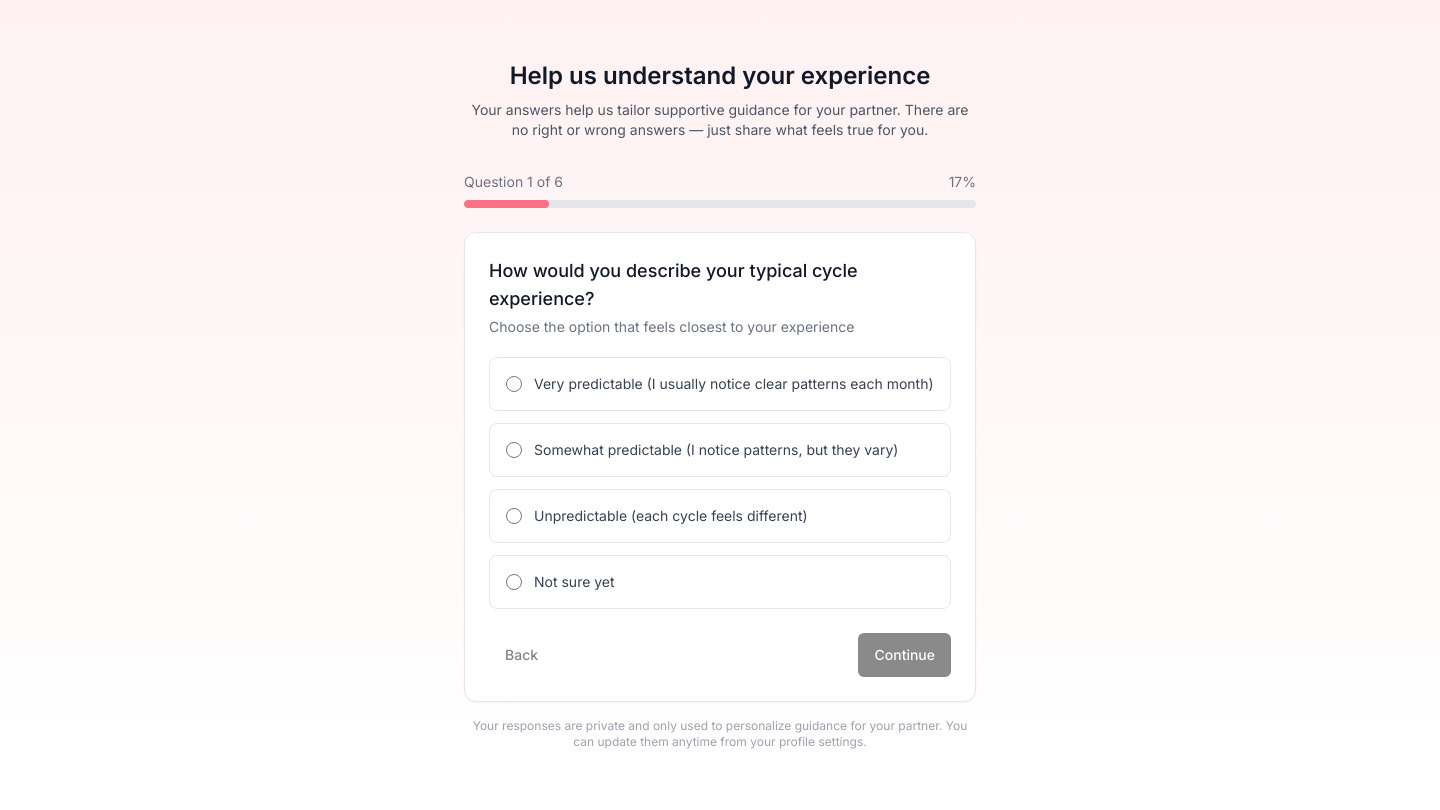
Scenario: OnboardingPage › navigates to Q2 when Continue is clicked
Click the radio button labelled "Not sure yet" at (514, 582), box [506,574,522,590]
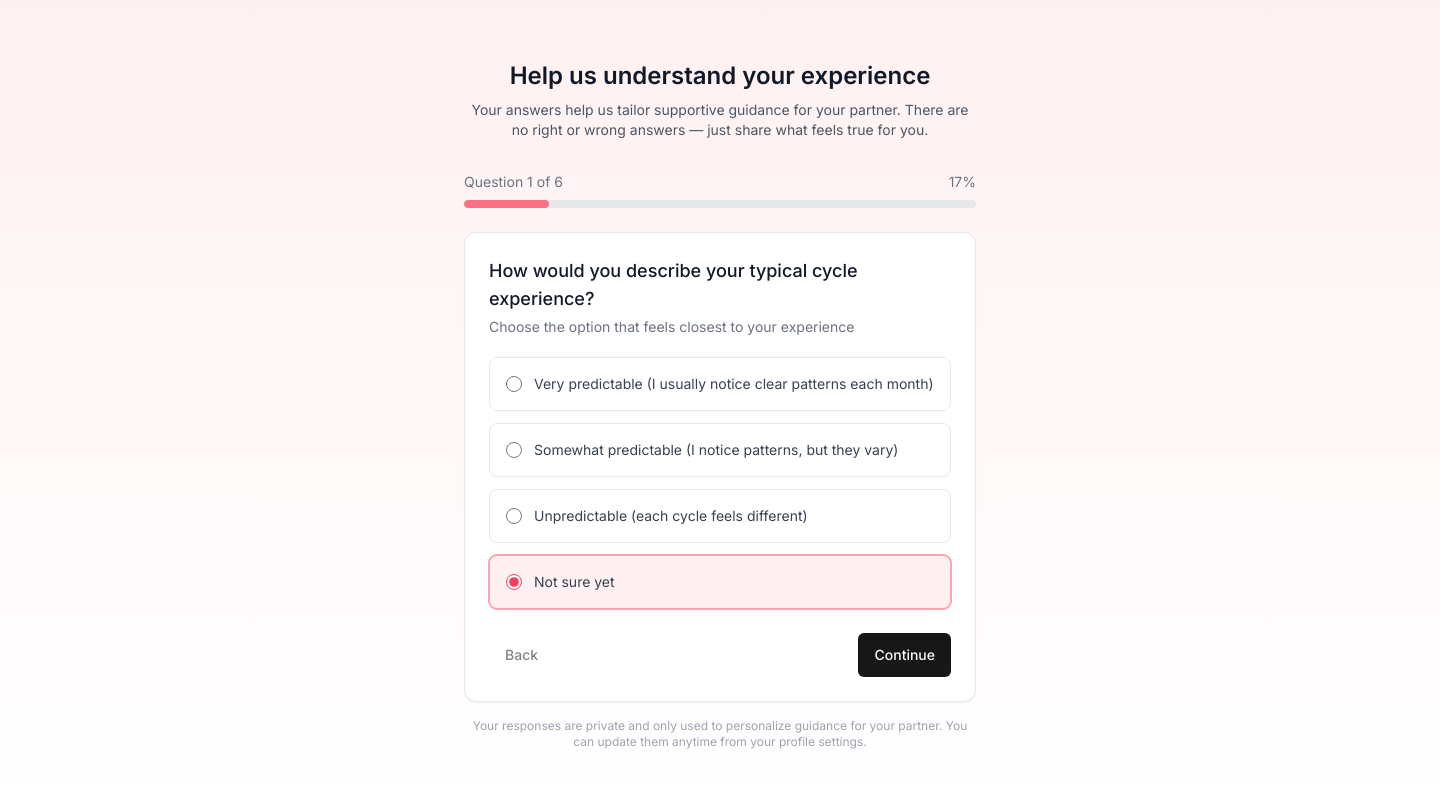
Click the button with aria-label "go to next question" at (905, 655), box [858,633,951,677]
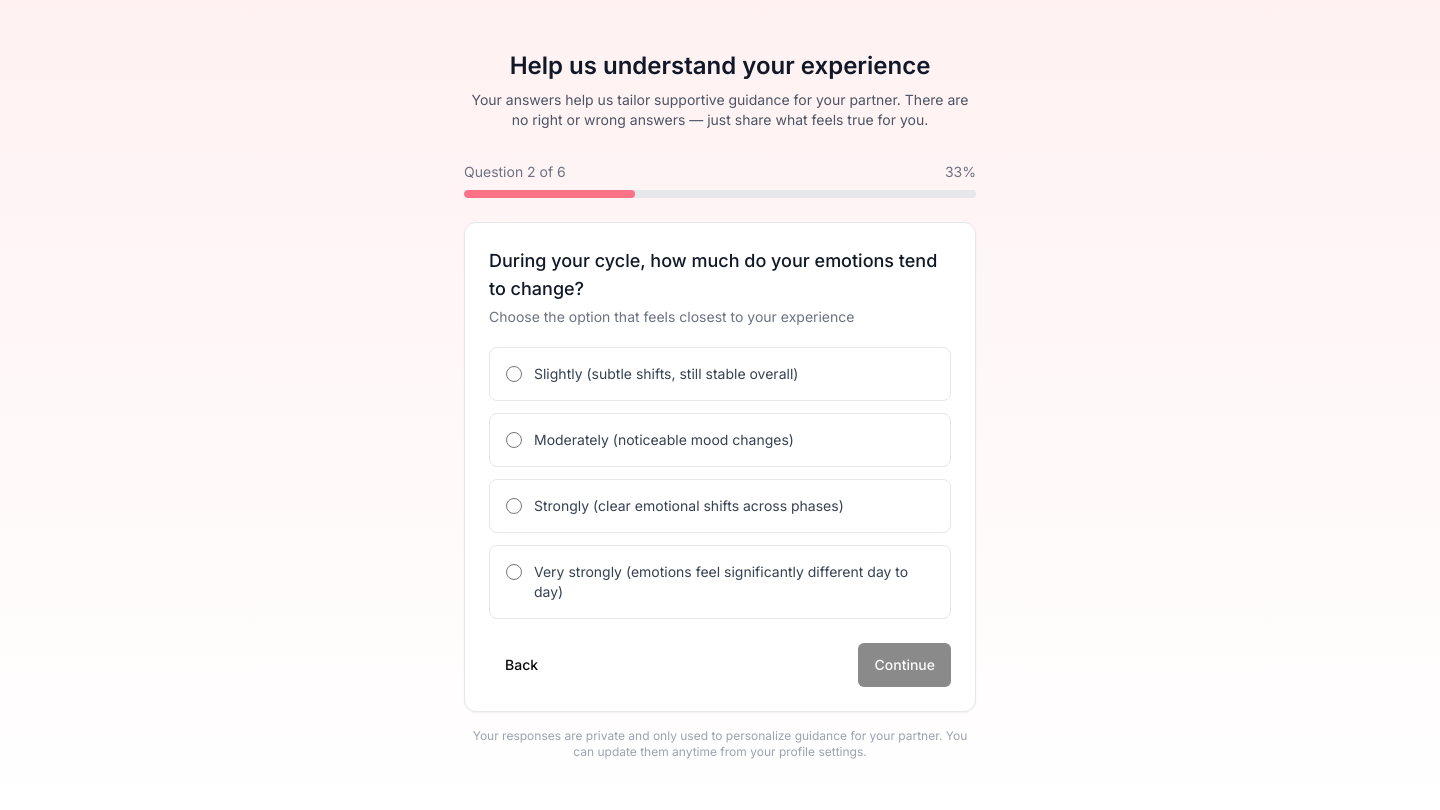
Expected: the heading "During your cycle, how much do your emotions tend to change?" is shown, [489,247,951,303]
Expected: the text "Question 2 of 6" is shown, [464,162,566,182]
